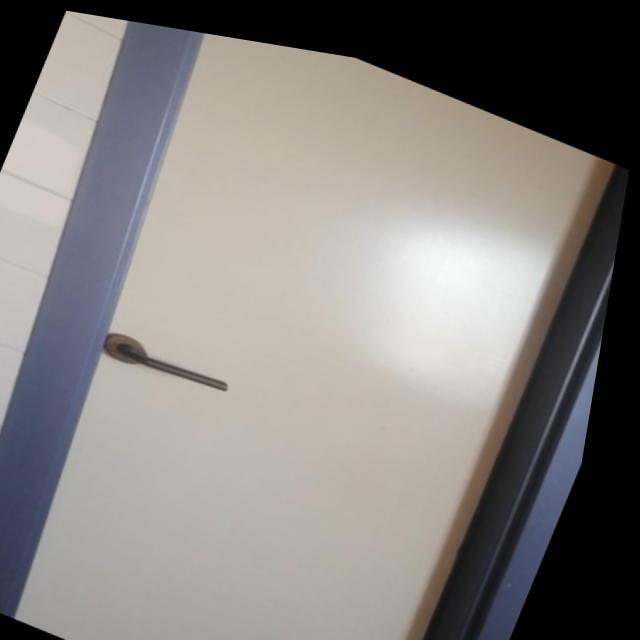door_handle: (111, 329, 246, 390)
